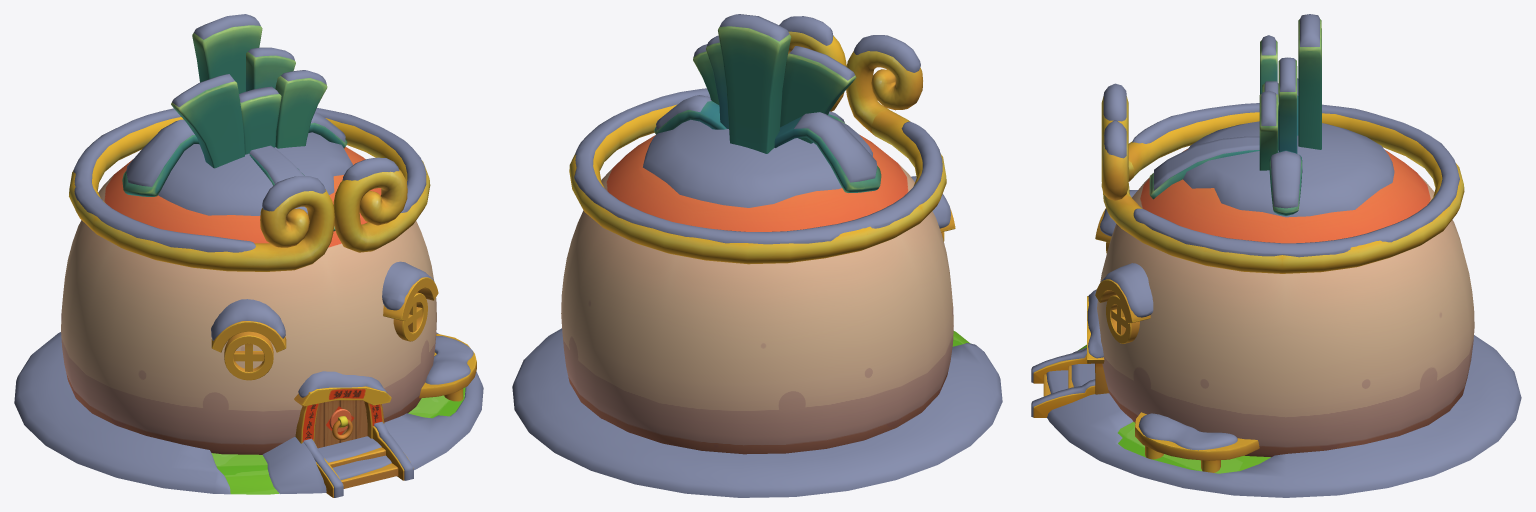
3 views of the same model, side by side, from view 1: azimuth 30°, elevation 25°; view 2: azimuth 150°, elevation 25°; view 3: azimuth 270°, elevation 25° (orthographic). The views are drawn at different scales.
Parts seen in each view (by area): view 1: wk_s_02a, wk_s_02b; view 2: wk_s_02a, wk_s_02b; view 3: wk_s_02a, wk_s_02b.
Boxes of the visible parts, x1,y1,x2,y2 form: wk_s_02a: (61, 25, 476, 497); wk_s_02b: (14, 14, 483, 497); wk_s_02a: (561, 26, 970, 454); wk_s_02b: (512, 14, 1002, 497); wk_s_02a: (1033, 19, 1474, 473); wk_s_02b: (1031, 14, 1521, 497).
Bounding box in the file's own units: 8.5 × 8.82 × 7.6.
Materials: 2 (1 with a texture image).
